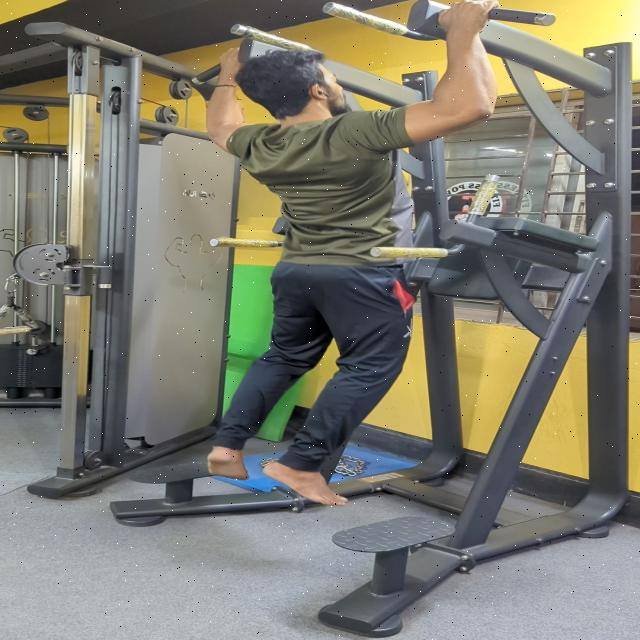Normal_PullUps: (119, 0, 560, 539)
